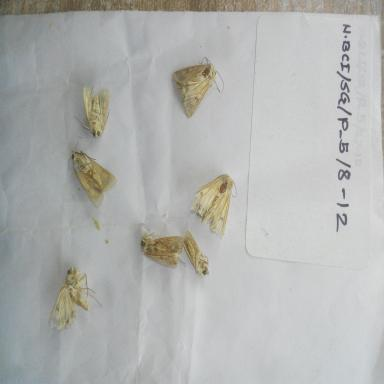abw: (44, 261, 108, 338), (64, 132, 120, 212), (168, 50, 227, 122), (186, 170, 238, 244), (69, 78, 116, 144), (134, 225, 186, 274), (176, 222, 212, 282)
